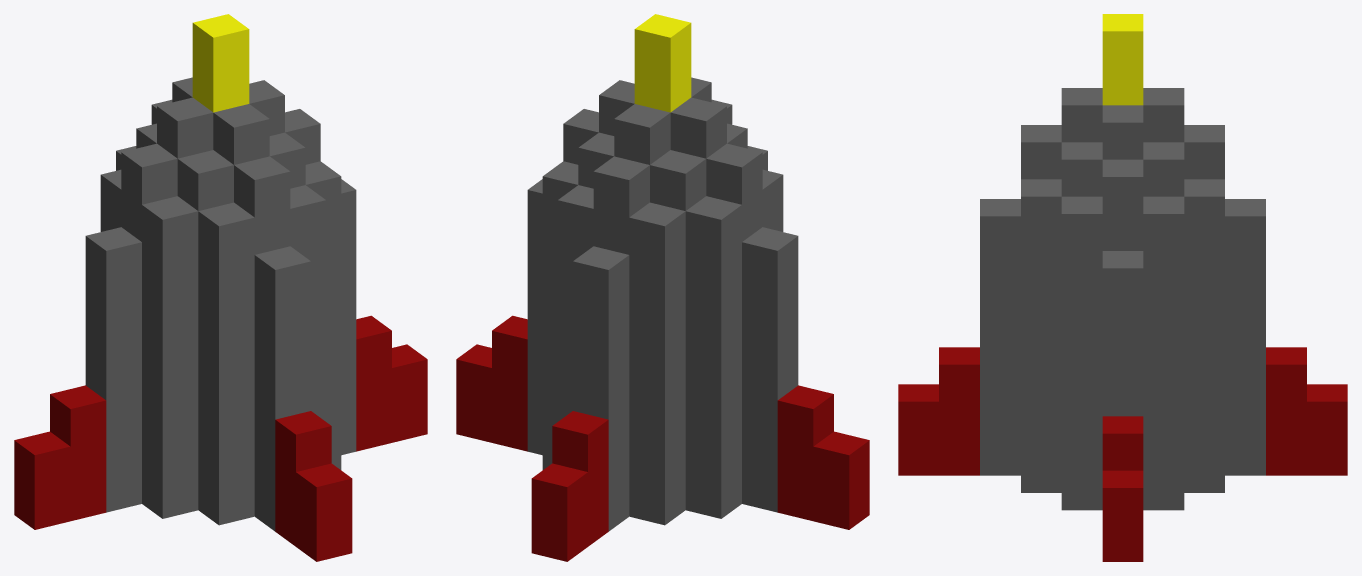
Rendered from rocket.gltf.
3 views of the same model, side by side, from view 1: azimuth 30°, elevation 25°; view 2: azimuth 150°, elevation 25°; view 3: azimuth 270°, elevation 25° (orthographic).
Visible parts, largest first — view 1: Layer.1; view 2: Layer.1; view 3: Layer.1.
Part boxes in pixels (x1=…): Layer.1: x1=14, y1=14, x2=427, y2=561; Layer.1: x1=456, y1=14, x2=869, y2=561; Layer.1: x1=898, y1=14, x2=1347, y2=561.
Size of the model in its own units: 11 by 12 by 11.
Materials: 1 (1 with a texture image).
